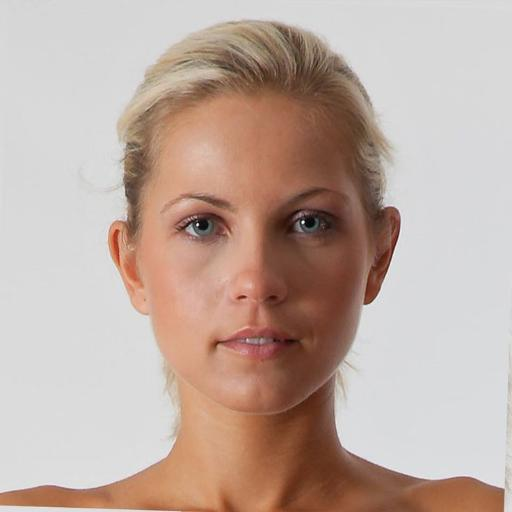left_eye: (284, 211, 340, 241)
left_lip_corner: (288, 334, 309, 351)
right_eye: (175, 215, 230, 245)
right_lip_corner: (210, 335, 232, 355)
